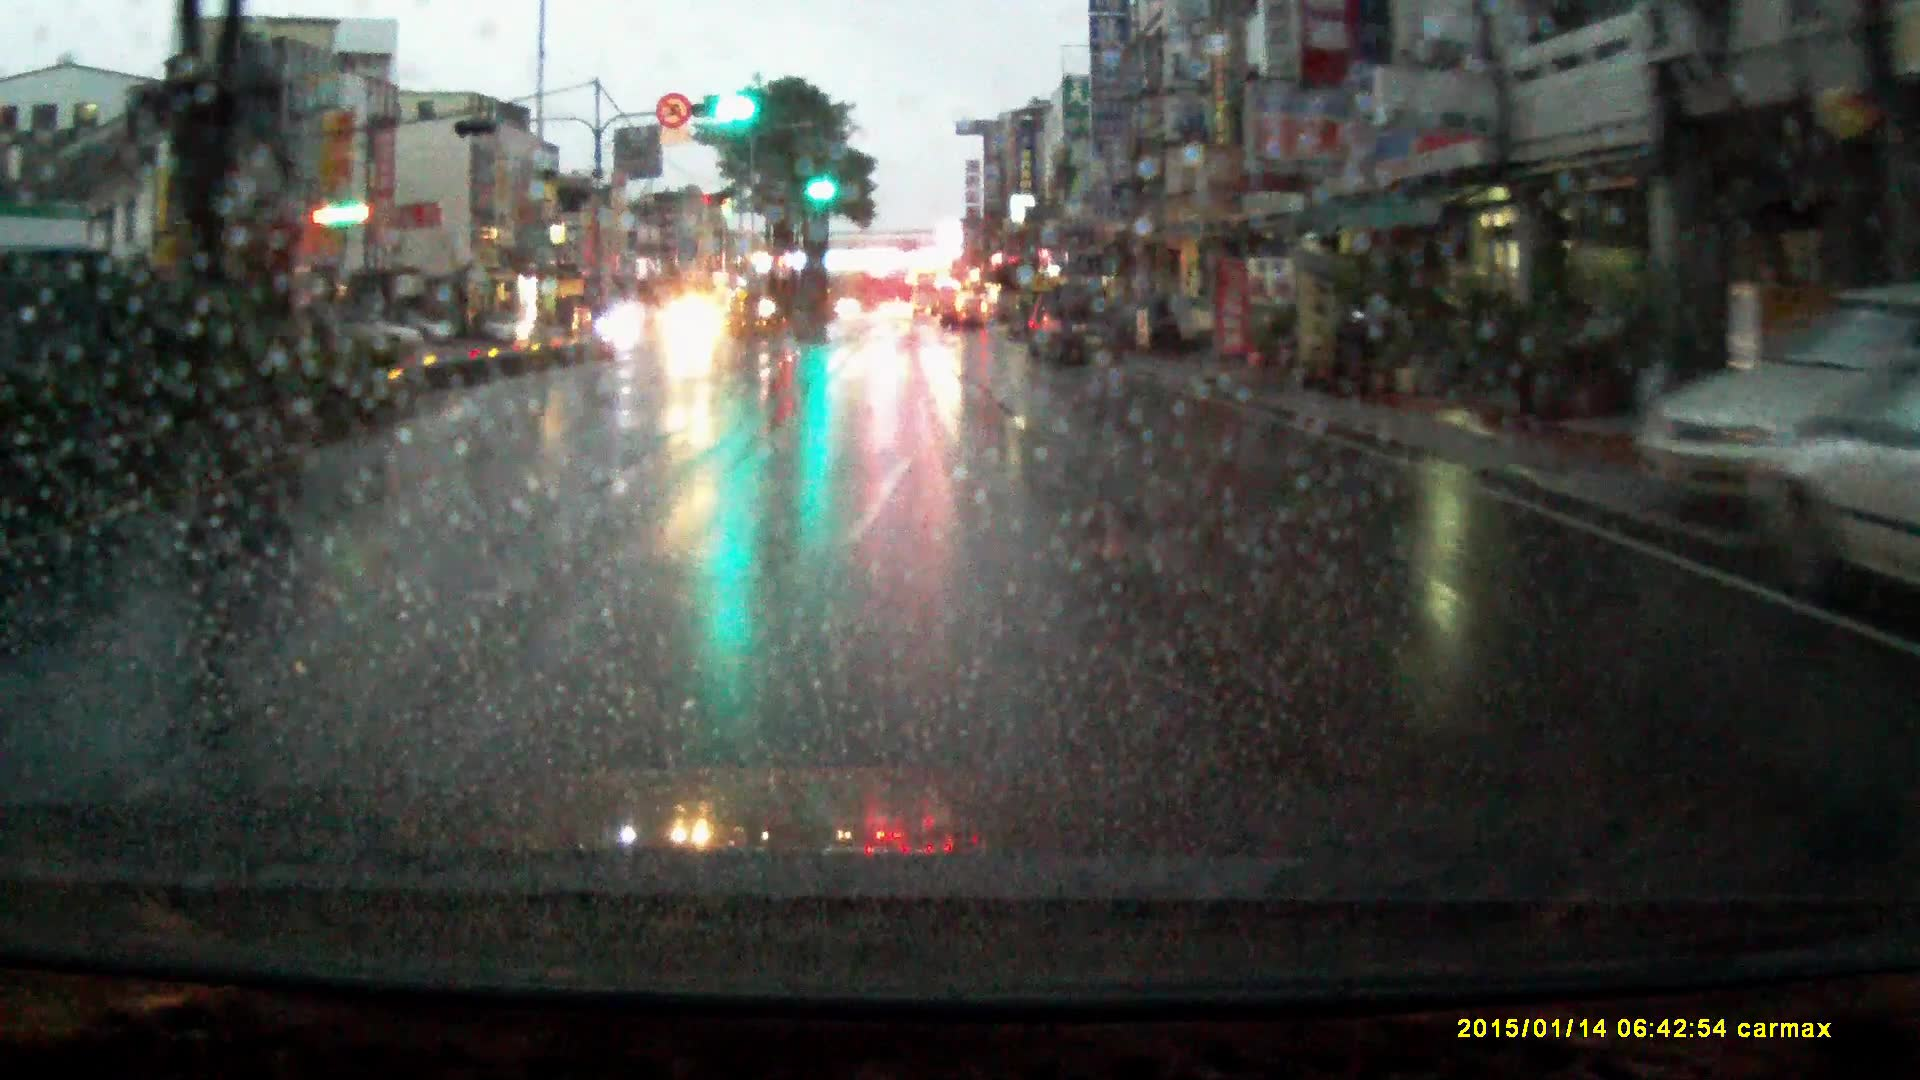vehicle: (1648, 280, 1920, 533), (1735, 334, 1920, 628), (1027, 284, 1116, 372), (662, 301, 731, 349), (352, 316, 423, 357), (587, 302, 650, 344), (487, 309, 546, 345), (940, 295, 992, 336), (1174, 305, 1218, 349), (910, 276, 943, 320), (880, 303, 915, 326)
